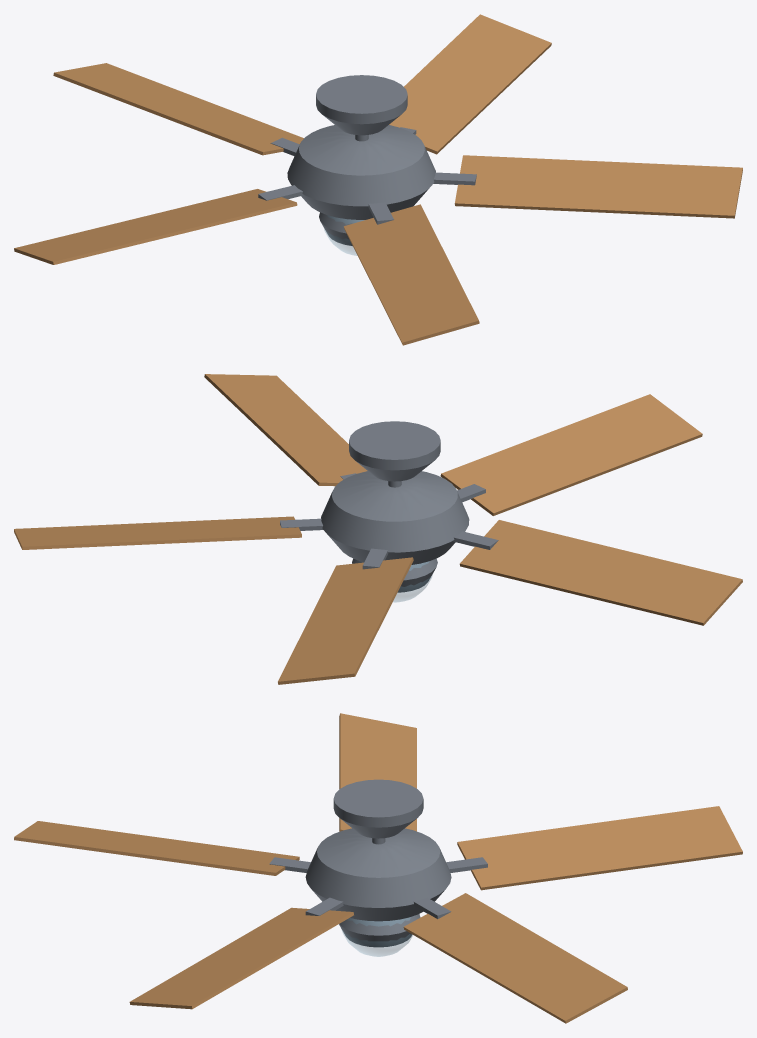
The model's file is ceiling_fan_52in.glb.
3 views of the same model, one above another, from view 1: azimuth 30°, elevation 25°; view 2: azimuth 150°, elevation 25°; view 3: azimuth 270°, elevation 25° (orthographic). The views are drawn at different scales.
Visible parts, largest first — view 1: rotor, ceiling_fan_52in; view 2: rotor, ceiling_fan_52in; view 3: rotor, ceiling_fan_52in.
Part boxes in pixels (x1=…): rotor: x1=14, y1=14, x2=742, y2=345; ceiling_fan_52in: x1=316, y1=75, x2=407, y2=255; rotor: x1=14, y1=374, x2=742, y2=684; ceiling_fan_52in: x1=349, y1=421, x2=440, y2=602; rotor: x1=14, y1=713, x2=742, y2=1023; ceiling_fan_52in: x1=333, y1=779, x2=423, y2=956.
Bounding box in the file's own units: 1.24 × 0.3048 × 1.3.
